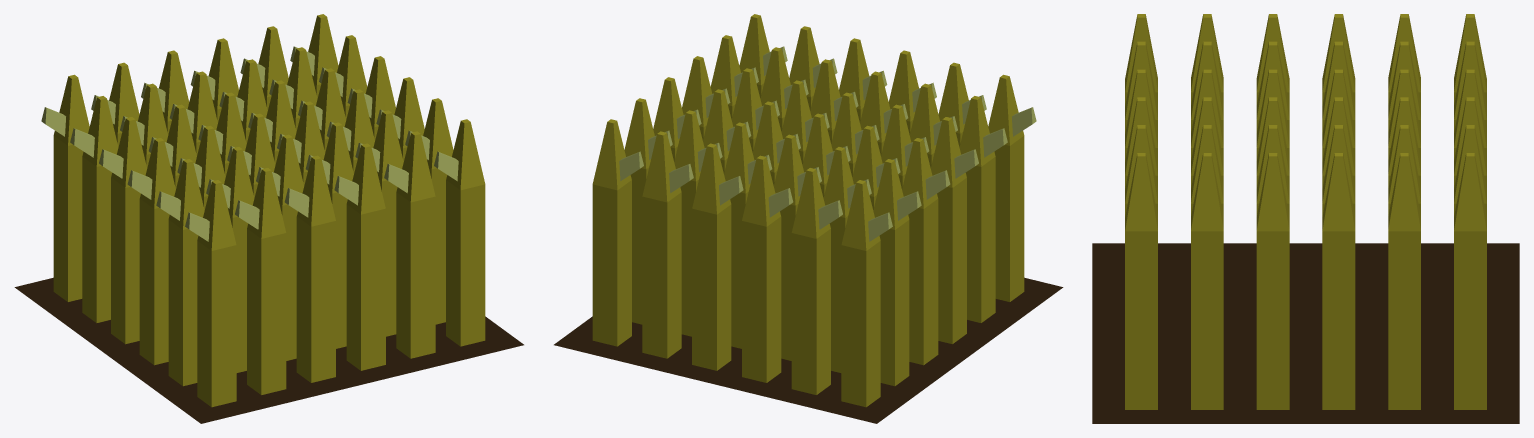
The model's file is wheat_fields_01.FBX.
The picture shows the model from 3 angles, left to right: view 1: azimuth 30°, elevation 25°; view 2: azimuth 150°, elevation 25°; view 3: azimuth 270°, elevation 25°; orthographic projection. The views are drawn at different scales.
Visible parts, largest first — view 1: Wheat_Fields; view 2: Wheat_Fields; view 3: Wheat_Fields.
Part boxes in pixels (x1,y1,x2,y2): Wheat_Fields: (14, 14, 523, 423); Wheat_Fields: (554, 14, 1063, 423); Wheat_Fields: (1092, 14, 1519, 423).
Bounding box in the file's own units: 4333 × 2779 × 4333.
